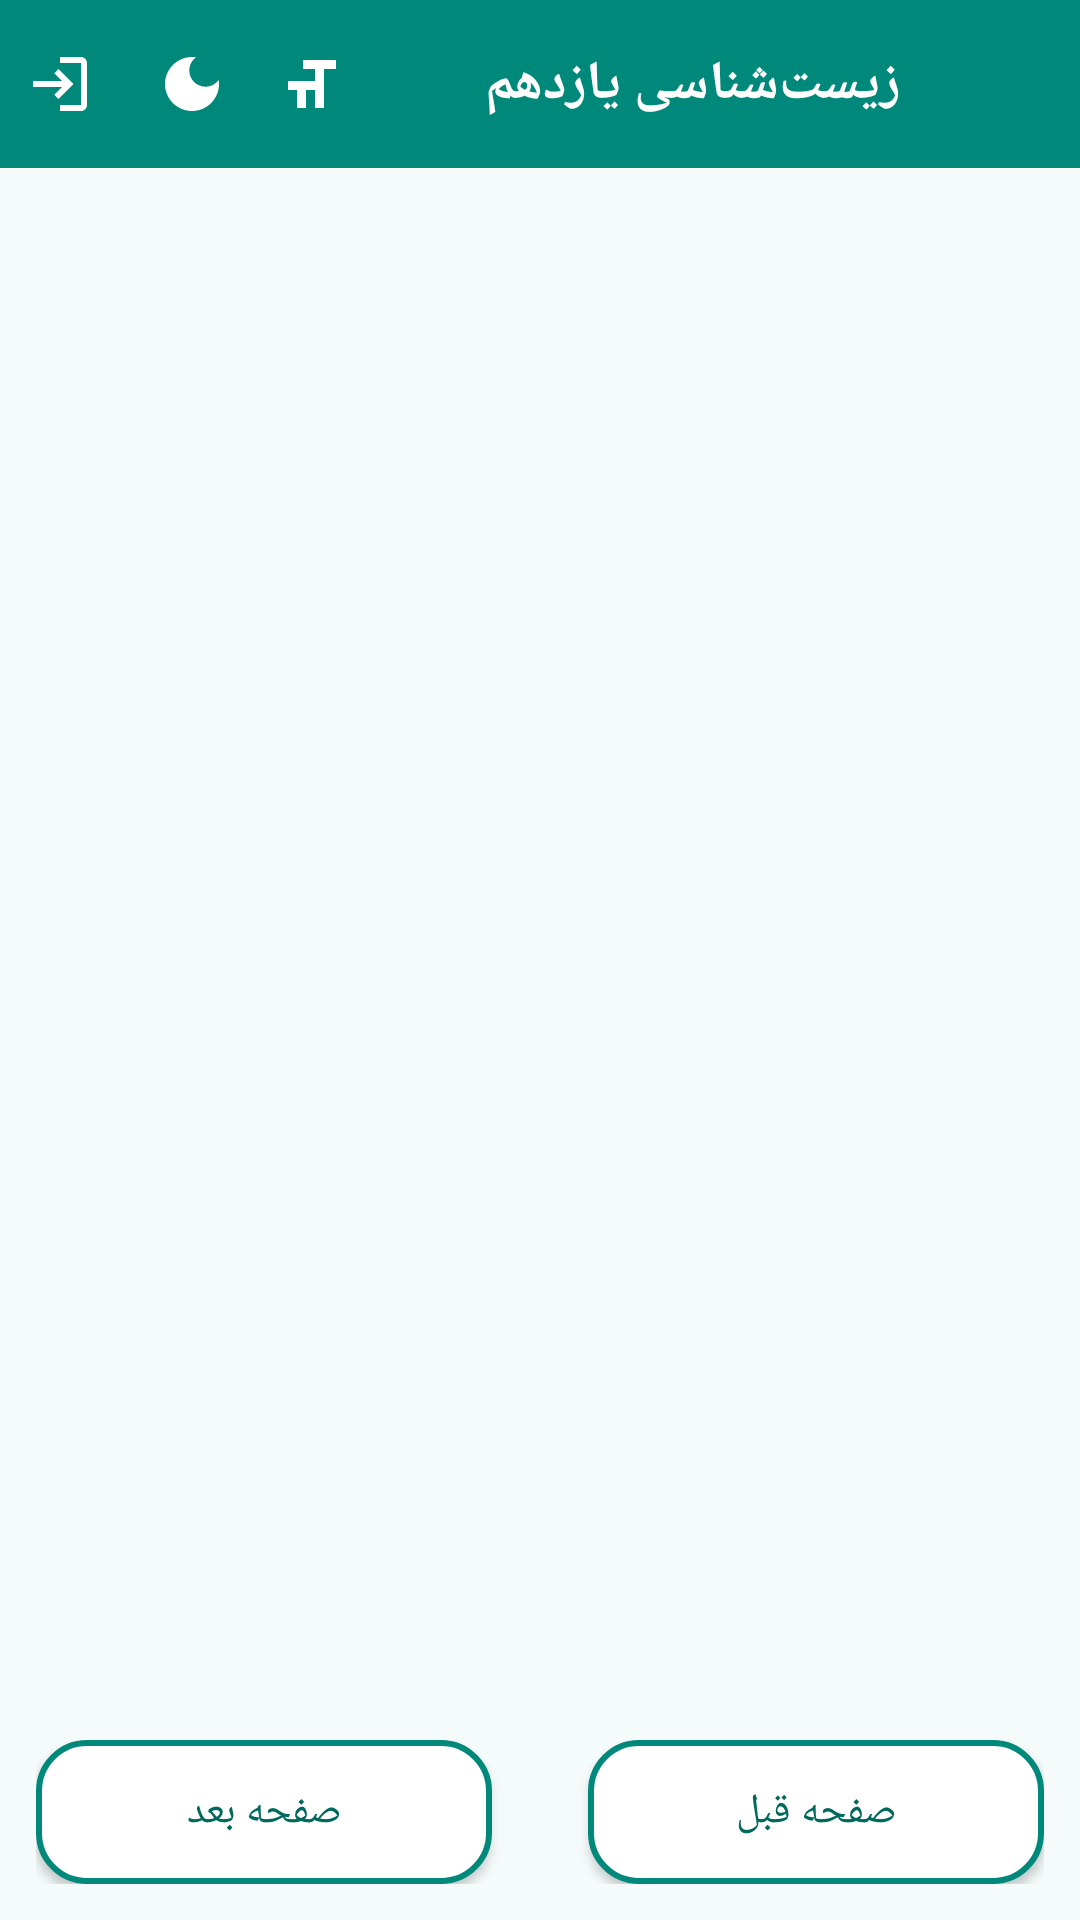

Where to tap for icons on this 1080*1920 app screen, as [x,y]:
اندازه فونت: [312,84]
حالت تاریک: [192,84]
خروج: [60,84]
